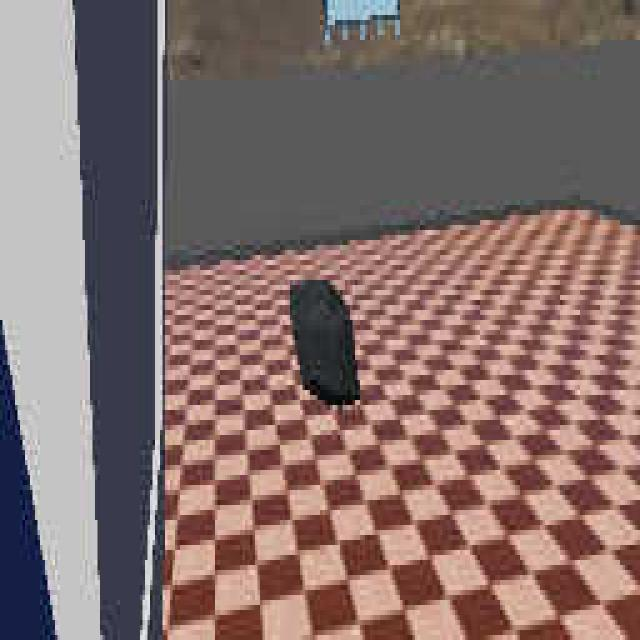rock: (288, 277, 360, 407)
